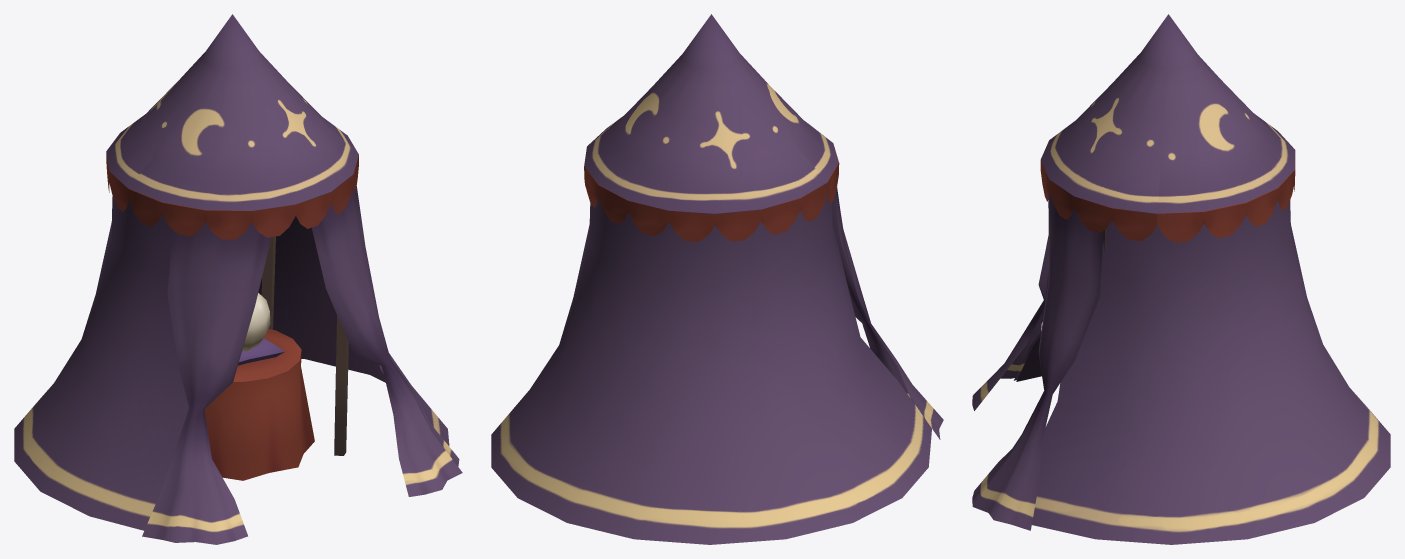
The model's file is FortunetellerTent.fbx.
The picture shows the model from 3 angles, left to right: view 1: azimuth 30°, elevation 25°; view 2: azimuth 150°, elevation 25°; view 3: azimuth 270°, elevation 25°; orthographic projection.
Visible parts, largest first — view 1: FortunetellerTent_; view 2: FortunetellerTent_; view 3: FortunetellerTent_.
Part boxes in pixels (left/top/right/bottom): FortunetellerTent_: left=14, top=14, right=462, bottom=544; FortunetellerTent_: left=491, top=14, right=943, bottom=544; FortunetellerTent_: left=972, top=14, right=1390, bottom=544.
Size of the model in its own units: 204 by 222 by 192.
